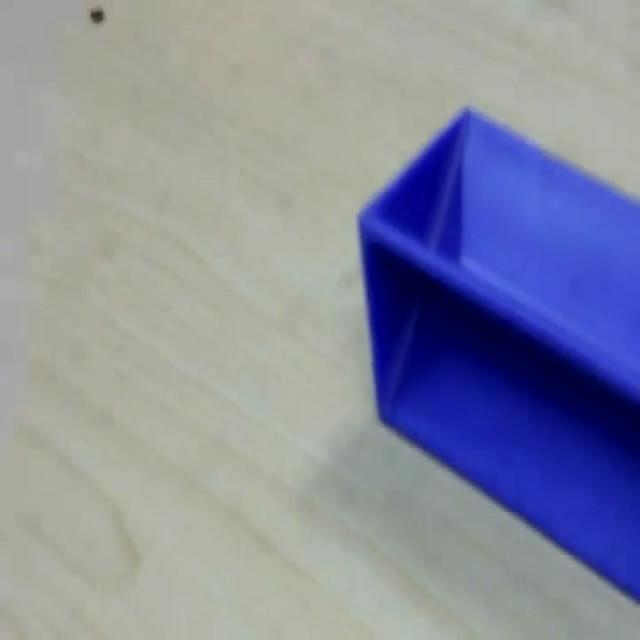blue_block: (356, 102, 638, 602)
